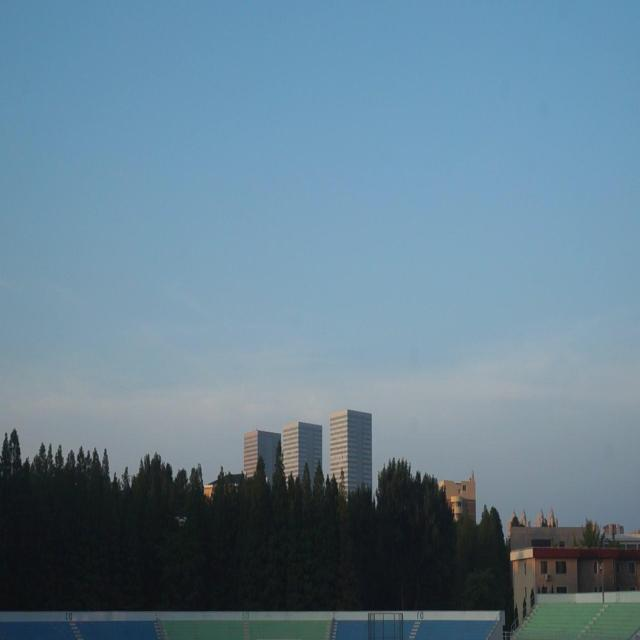drone: (171, 508, 191, 532)
